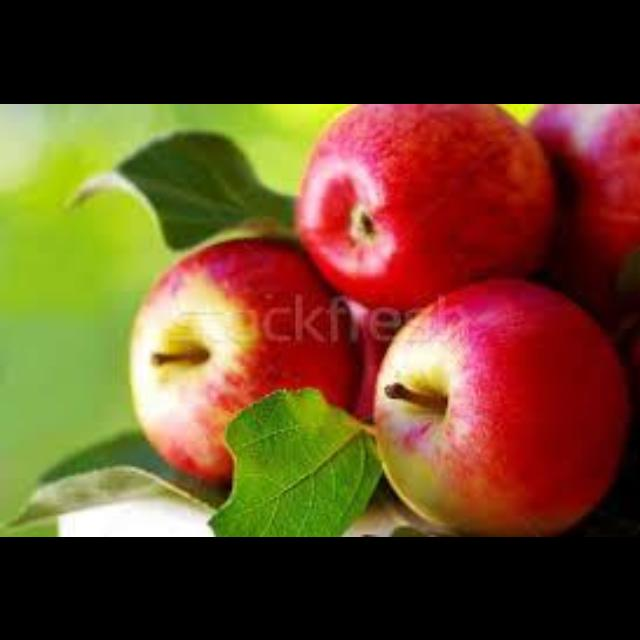apple: (375, 279, 628, 534), (131, 239, 359, 480), (295, 103, 553, 307), (530, 103, 638, 326)
